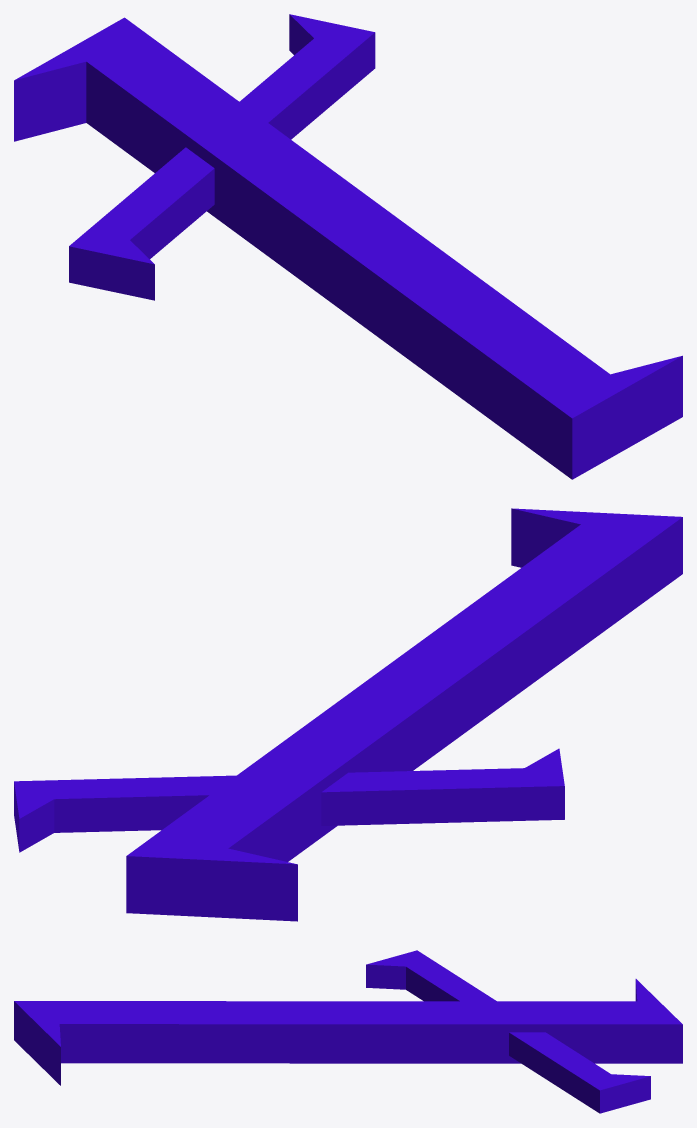
File: Rovas_I.fbx
The picture shows the model from 3 angles, top to bottom: view 1: azimuth 30°, elevation 25°; view 2: azimuth 150°, elevation 25°; view 3: azimuth 270°, elevation 25°; orthographic projection. The views are drawn at different scales.
Parts seen in each view (by area): view 1: Rovas_I; view 2: Rovas_I; view 3: Rovas_I.
Boxes of the visible parts, x1,y1,x2,y2 form: Rovas_I: (14, 14, 682, 479); Rovas_I: (14, 508, 682, 921); Rovas_I: (14, 950, 682, 1113).
Size of the model in its own units: 232 by 115 by 15.
